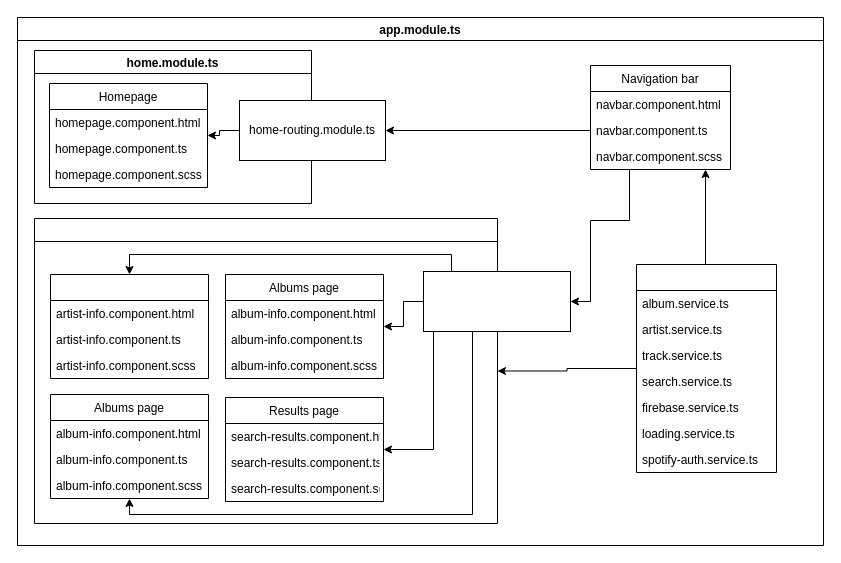
This 841x563 diagram has some shape labels left out. Each missing label, with the box of its shape:
Artist page: (50, 274, 208, 378)
results-routing.module.ts: (422, 270, 570, 332)
results.module.ts: (34, 218, 498, 524)
Services: (636, 264, 776, 472)
